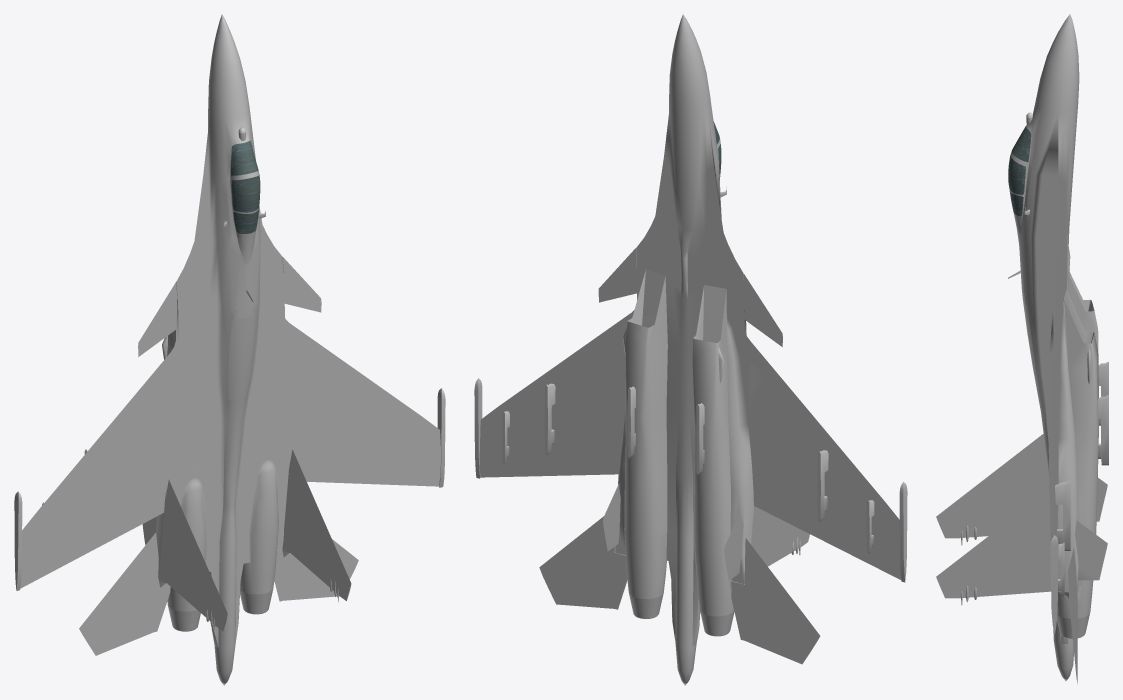
The model's file is ufo.obj.
3 views of the same model, side by side, from view 1: azimuth 30°, elevation 25°; view 2: azimuth 150°, elevation 25°; view 3: azimuth 270°, elevation 25° (orthographic).
Parts seen in each view (by area): view 1: LOD0, ElevatorL01, VoletL01, FlapL01, FlapR01, ElevatorR01, VoletR01, BrakeL01, Glass_Canopy01, CanardL01, CanardR01, RudderL01 (+2 smaller); view 2: LOD0, ElevatorL01, ElevatorR01, FlapL01, FlapR01, VoletL01, VoletR01, CanardL01, CanardR01; view 3: LOD0, RudderR01, ElevatorR01, Glass_Canopy01, VoletR01, EngineR01, RudderL01, Glass01, Canopy01, BrakeL01.
Boxes of the visible parts, x1,y1,x2,y2 form: LOD0: (14, 14, 445, 685); ElevatorL01: (79, 532, 170, 655); VoletL01: (37, 352, 172, 523); FlapL01: (74, 477, 167, 559); FlapR01: (293, 446, 385, 484); ElevatorR01: (274, 539, 358, 601); VoletR01: (289, 323, 424, 428); BrakeL01: (228, 305, 255, 399); Glass_Canopy01: (231, 175, 260, 233); CanardL01: (138, 282, 177, 356); CanardR01: (282, 256, 321, 312); RudderL01: (165, 560, 206, 617); LOD0: (474, 14, 907, 685); ElevatorL01: (731, 538, 820, 664); ElevatorR01: (539, 516, 627, 609); FlapL01: (752, 468, 846, 551); FlapR01: (534, 438, 622, 476); VoletL01: (750, 342, 884, 512); VoletR01: (497, 313, 631, 418); CanardL01: (743, 273, 782, 346); CanardR01: (598, 247, 636, 302); LOD0: (936, 14, 1108, 681); RudderR01: (977, 568, 1050, 596); ElevatorR01: (1059, 548, 1077, 683); Glass_Canopy01: (1008, 156, 1025, 216); VoletR01: (1051, 360, 1055, 536); EngineR01: (1057, 612, 1090, 638); RudderL01: (977, 513, 1017, 536); Glass01: (1011, 126, 1031, 162); Canopy01: (1009, 154, 1031, 220); BrakeL01: (1023, 294, 1039, 388).
Bounding box in the file's own units: 14.27 × 21.41 × 5.02.
